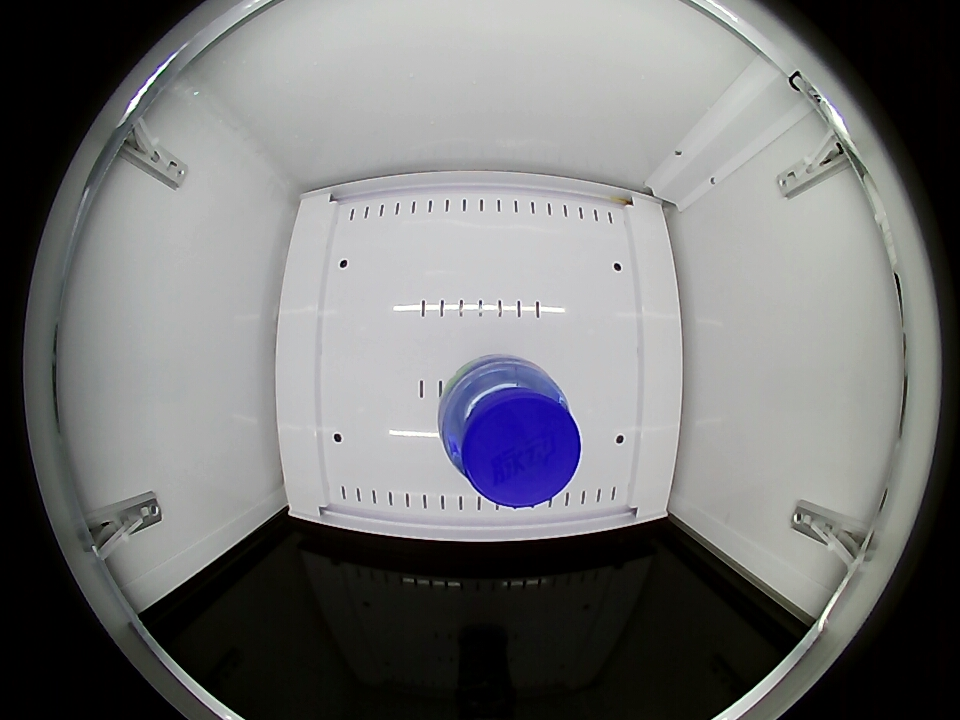maidong: (440, 362, 581, 508)
